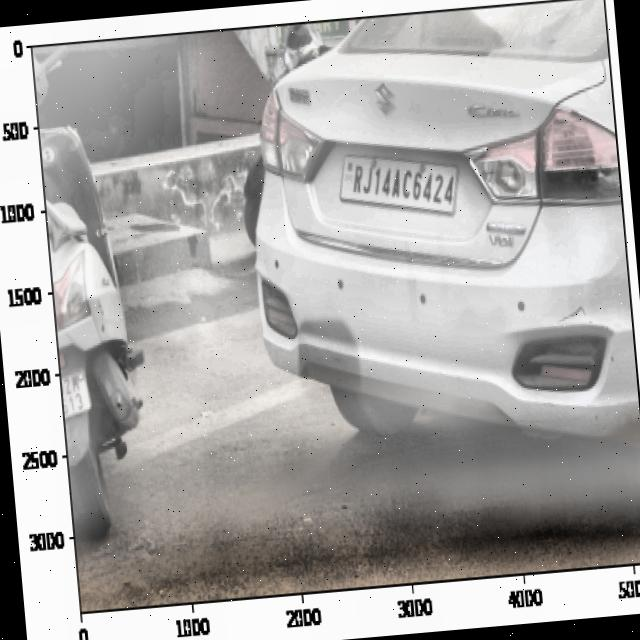license_plate: (346, 146, 459, 223)
